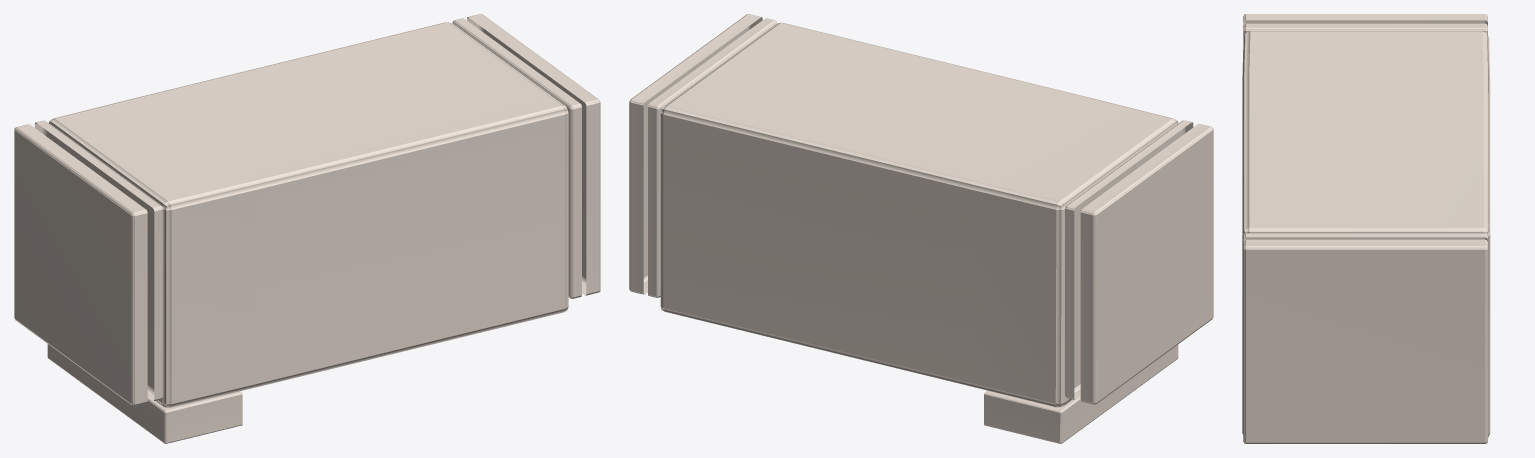
File: BodymeshMicrowaveB4_0_GeomSubset_0.obj
3 renders of one model, left to right at view 1: azimuth 30°, elevation 25°; view 2: azimuth 150°, elevation 25°; view 3: azimuth 270°, elevation 25°, orthographic. The views are drawn at different scales.
Visible parts, largest first — view 1: BodymeshMicrowaveB4_0_GeomSubset_0; view 2: BodymeshMicrowaveB4_0_GeomSubset_0; view 3: BodymeshMicrowaveB4_0_GeomSubset_0.
Boxes of the visible parts, x1,y1,x2,y2 form: BodymeshMicrowaveB4_0_GeomSubset_0: [14, 14, 600, 443]; BodymeshMicrowaveB4_0_GeomSubset_0: [629, 14, 1213, 443]; BodymeshMicrowaveB4_0_GeomSubset_0: [1242, 14, 1490, 443].
Bounding box in the file's own units: 0.6997 × 0.3525 × 0.3512.
